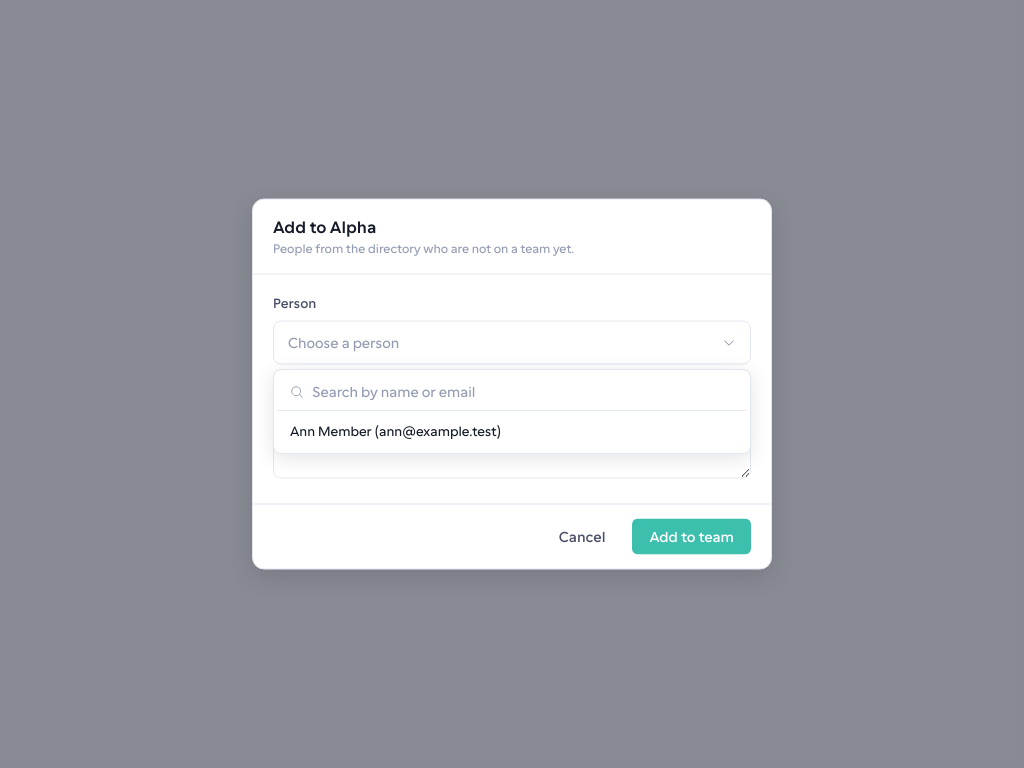
it: AddMemberDialog › refuses to submit before a person is chosen
Press Escape
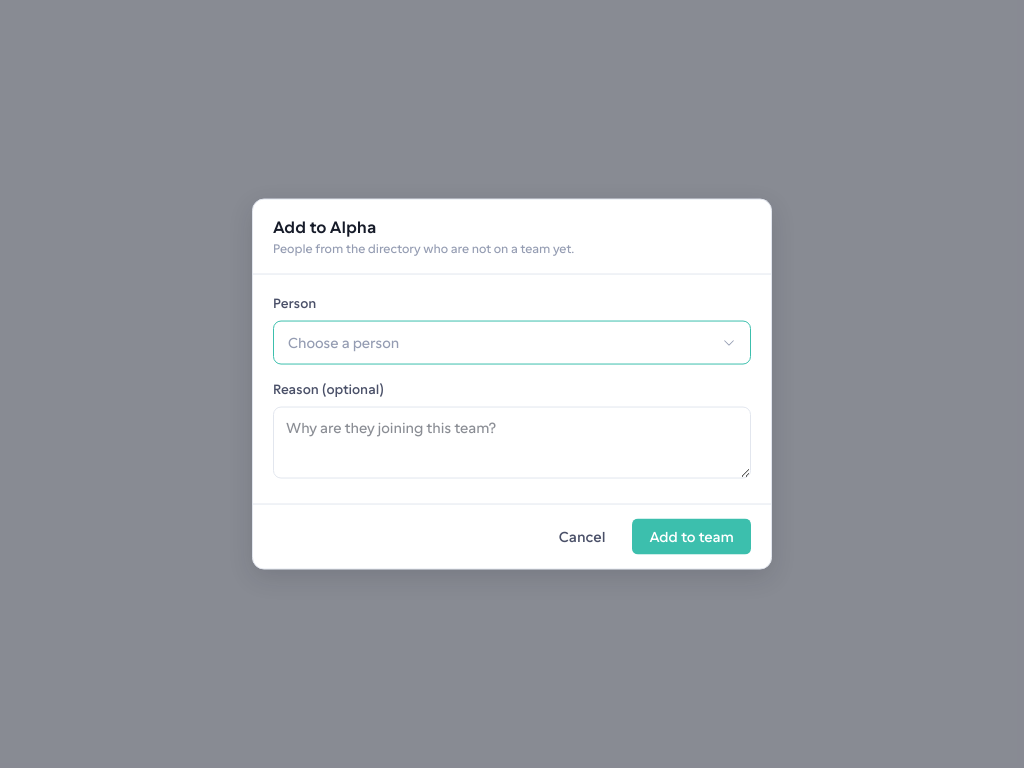
Click the button "Add to team" at [692, 536], box [632,518,751,554]
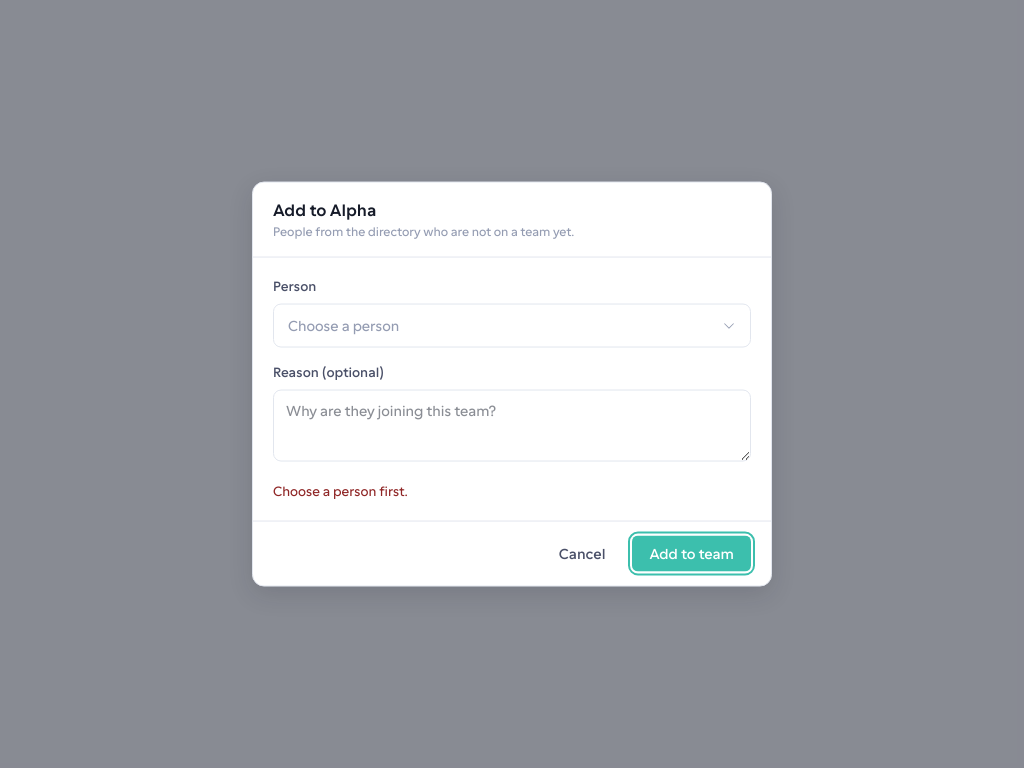
Expected: the message reads "Choose a person first.", [273,484,408,498]
